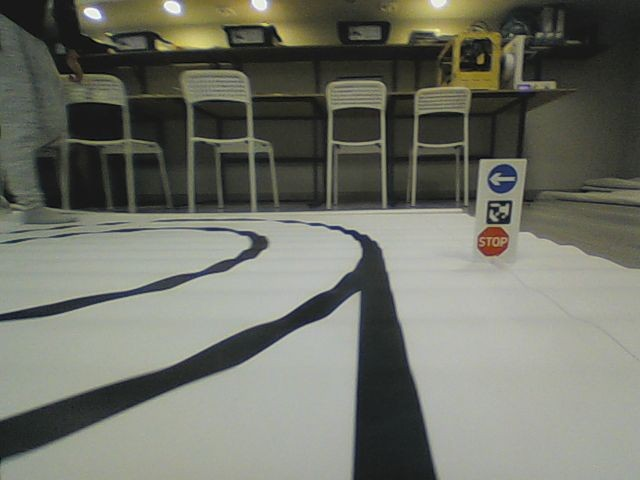Stop: (475, 225, 509, 257)
